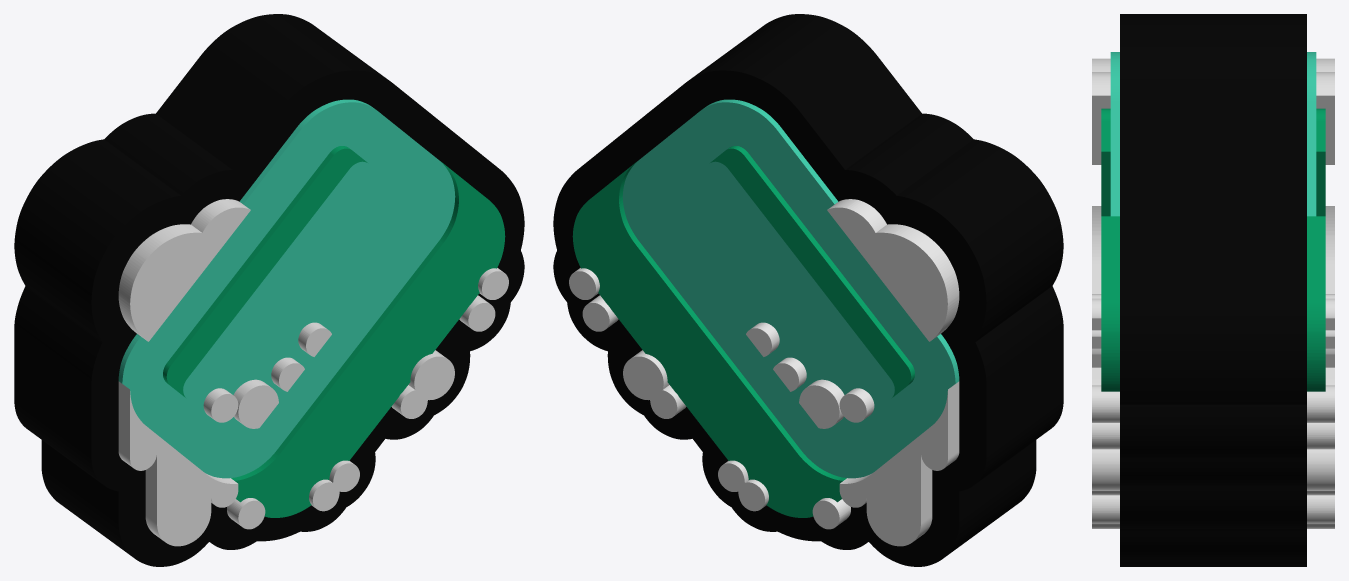
3 views of the same model, side by side, from view 1: azimuth 30°, elevation 25°; view 2: azimuth 150°, elevation 25°; view 3: azimuth 270°, elevation 25° (orthographic). The views are drawn at different scales.
Visible parts, largest first — view 1: U+1F9FC_layer00_obj00, U+1F9FC_layer01_obj00, U+1F9FC_layer02_obj00, U+1F9FC_layer03_obj00; view 2: U+1F9FC_layer00_obj00, U+1F9FC_layer01_obj00, U+1F9FC_layer02_obj00, U+1F9FC_layer03_obj00; view 3: U+1F9FC_layer00_obj00, U+1F9FC_layer03_obj00, U+1F9FC_layer02_obj00, U+1F9FC_layer01_obj00.
Part boxes in pixels (x1,y1,x2,y2): U+1F9FC_layer00_obj00: [14, 14, 524, 566]; U+1F9FC_layer01_obj00: [118, 99, 455, 478]; U+1F9FC_layer02_obj00: [163, 146, 505, 517]; U+1F9FC_layer03_obj00: [118, 199, 508, 546]; U+1F9FC_layer00_obj00: [553, 14, 1063, 566]; U+1F9FC_layer01_obj00: [622, 99, 959, 478]; U+1F9FC_layer02_obj00: [572, 146, 914, 517]; U+1F9FC_layer03_obj00: [569, 199, 959, 546]; U+1F9FC_layer00_obj00: [1120, 14, 1306, 566]; U+1F9FC_layer03_obj00: [1092, 58, 1334, 528]; U+1F9FC_layer02_obj00: [1101, 108, 1325, 391]; U+1F9FC_layer01_obj00: [1110, 52, 1316, 216].
Bounding box in the file's own units: 0.6491 × 0.649 × 0.26.
